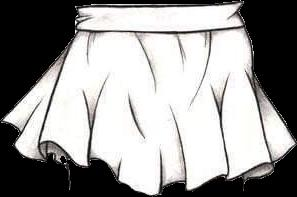Hemline: (0, 118, 296, 195)
Waistline: (76, 24, 244, 33), (77, 0, 240, 8)
